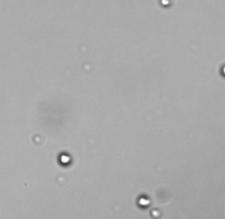Living Cell: (137, 194, 151, 207), (58, 153, 71, 165), (150, 207, 161, 217), (159, 1, 172, 8)
